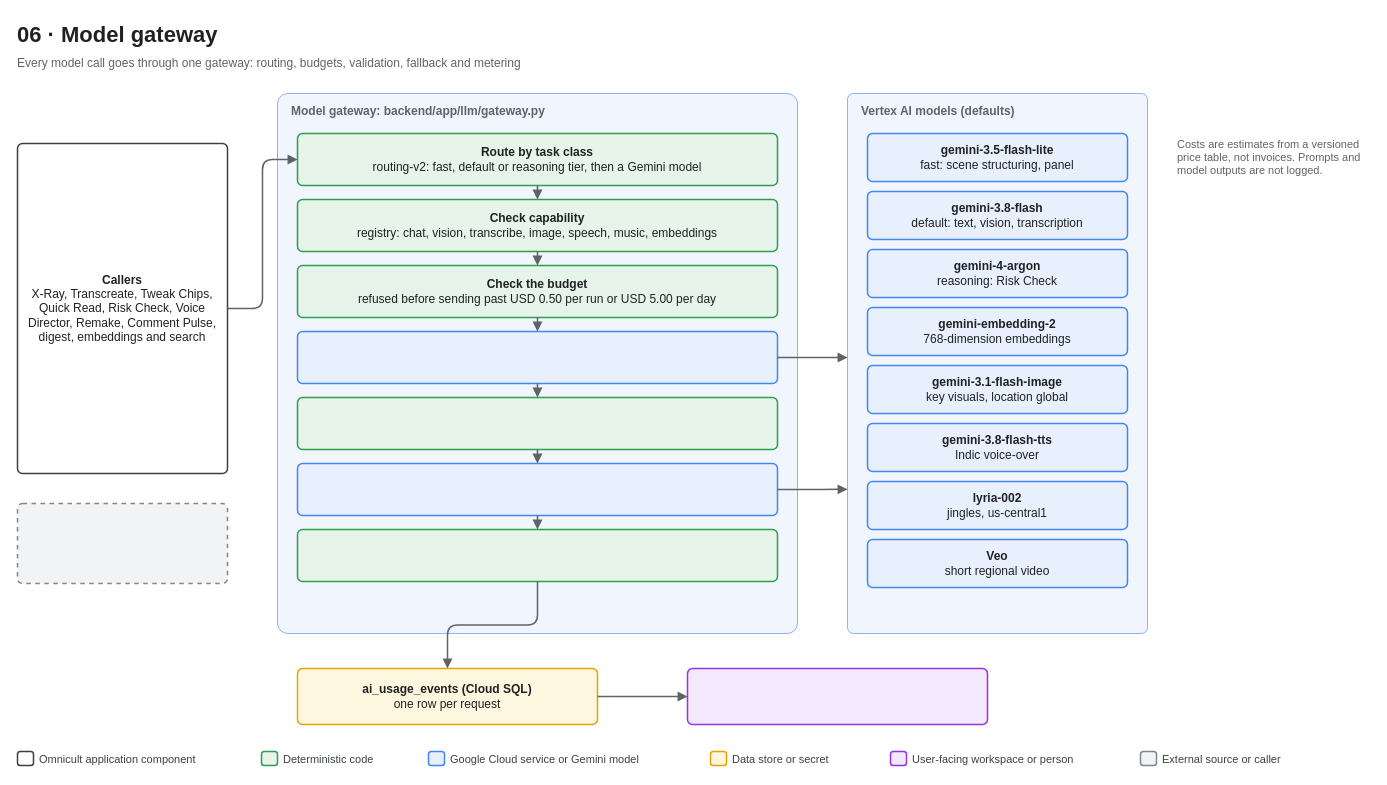
The diagram is 1387 pixels wide and 785 high, and some of its shapes have lost their labels. Each missing label, with the centre of its shape:
"Call Vertex AI timeout and bounded retries for transient errors" belongs at point 537,357.
"Demo workspaces use a fixture provider: no network call" belongs at point 122,543.
"Fall back if allowed a lower Google tier only, recorded in the trace" belongs at point 537,489.
"Meter the call provider, model, prompt version, tokens, estimated cost, latency" belongs at point 537,555.
"Usage page estimated spend by workspace and campaign" belongs at point 837,696.
"Validate the output Pydantic schema and prompt_version; one repair attempt" belongs at point 537,423.
